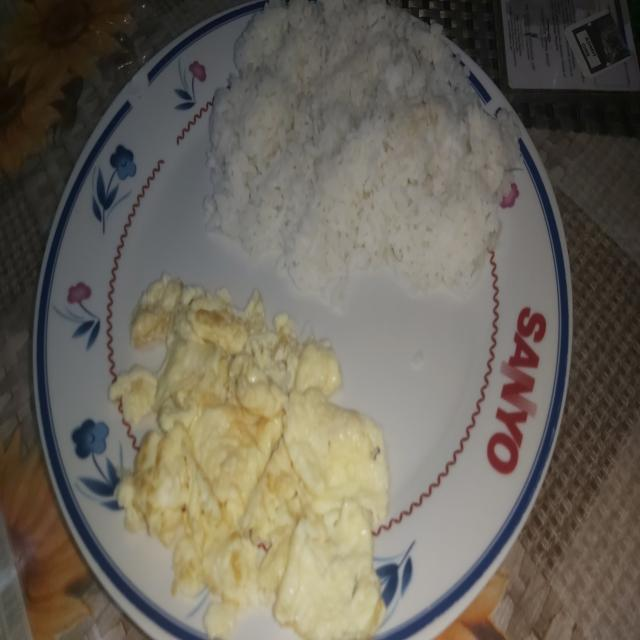Chicken -Chicken Inasal-: (211, 0, 500, 284)
